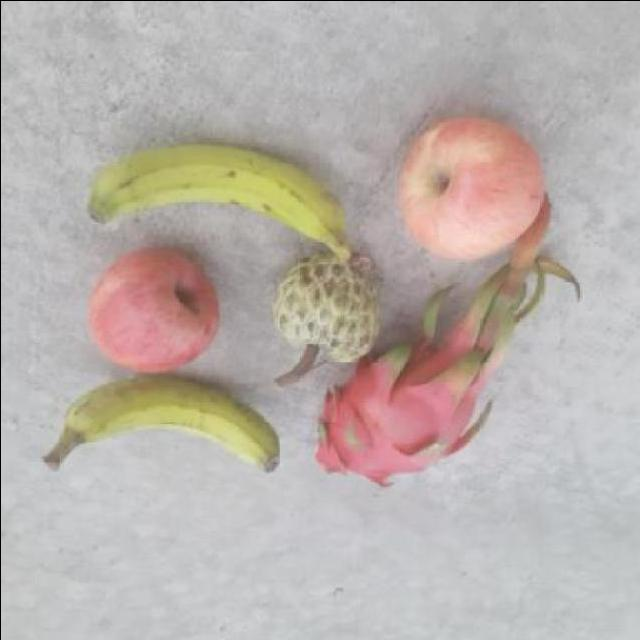apple: (388, 107, 547, 262), (85, 239, 222, 376)
banana: (78, 143, 364, 272), (39, 373, 286, 473)
dragon fruit: (311, 330, 492, 495)
sugar apple: (272, 254, 379, 368)
